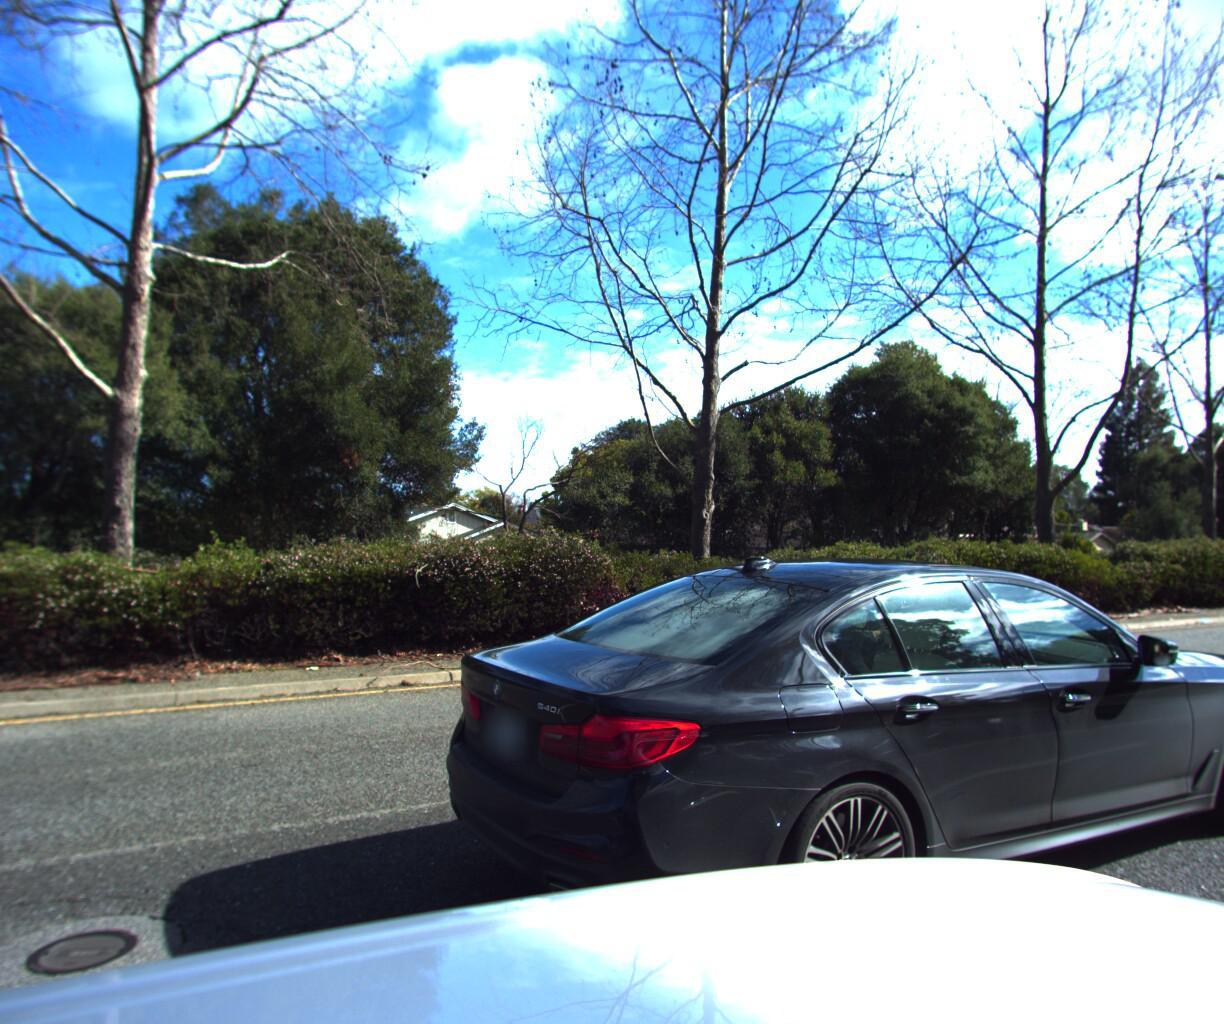car: (394, 548, 1224, 1024)
